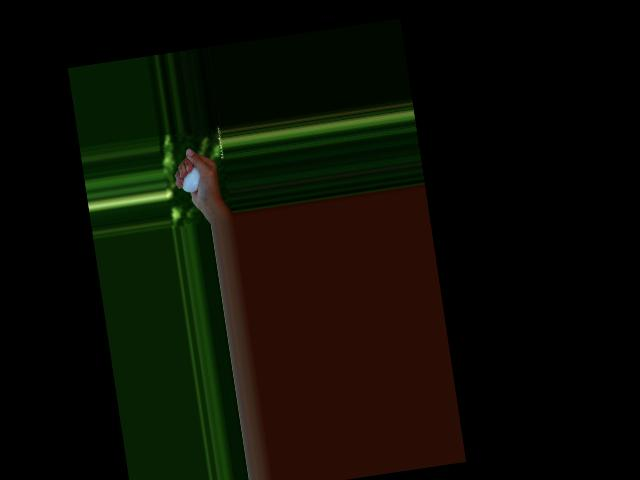egg: (179, 165, 202, 193)
